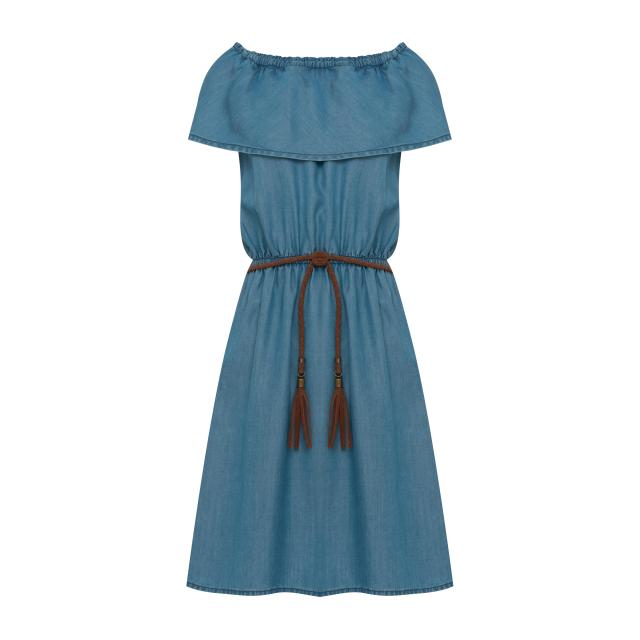Dress: (184, 39, 457, 596)
